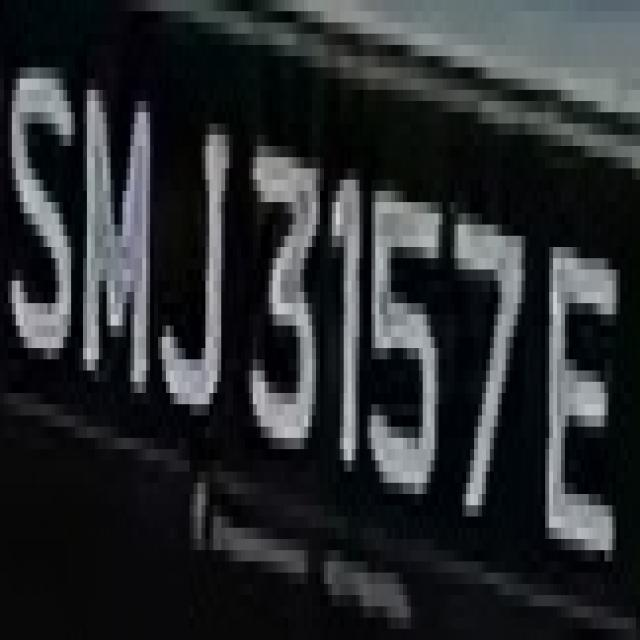1: (336, 146, 363, 516)
3: (241, 112, 328, 483)
5: (360, 146, 442, 516)
7: (450, 191, 526, 528)
E: (545, 191, 620, 573)
J: (150, 78, 233, 438)
M: (79, 68, 158, 404)
S: (4, 12, 83, 360)
